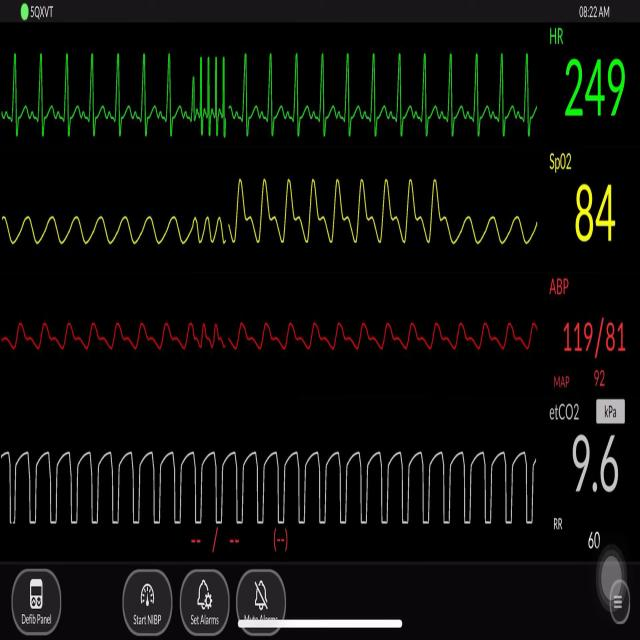danger: (196, 45, 232, 146)
